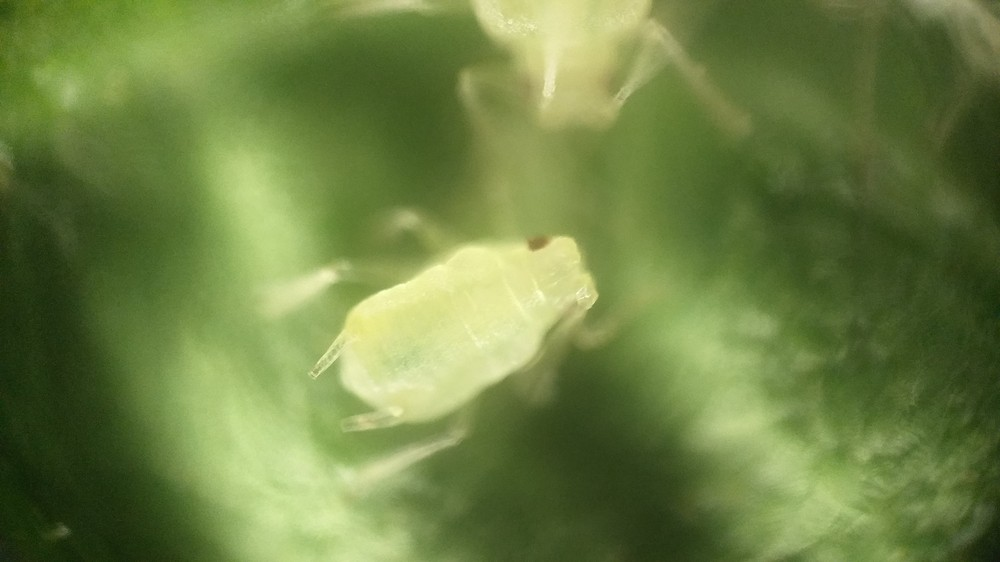Pulgon: (257, 188, 676, 478)
